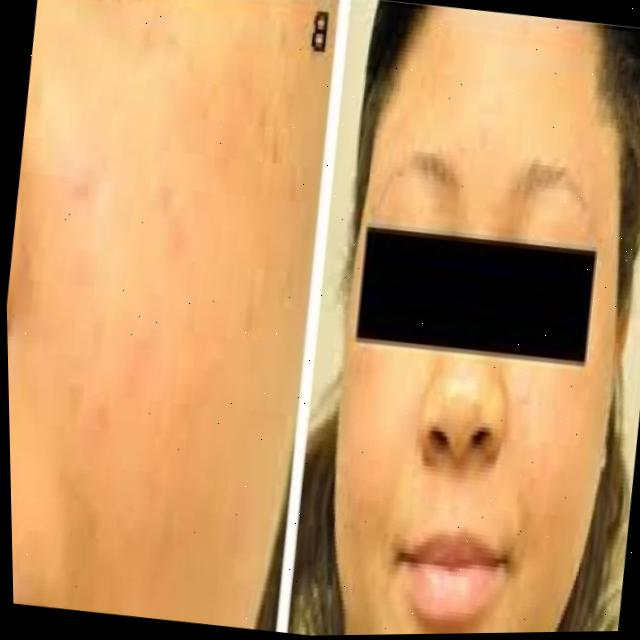Rosacea: (507, 367, 616, 565)
